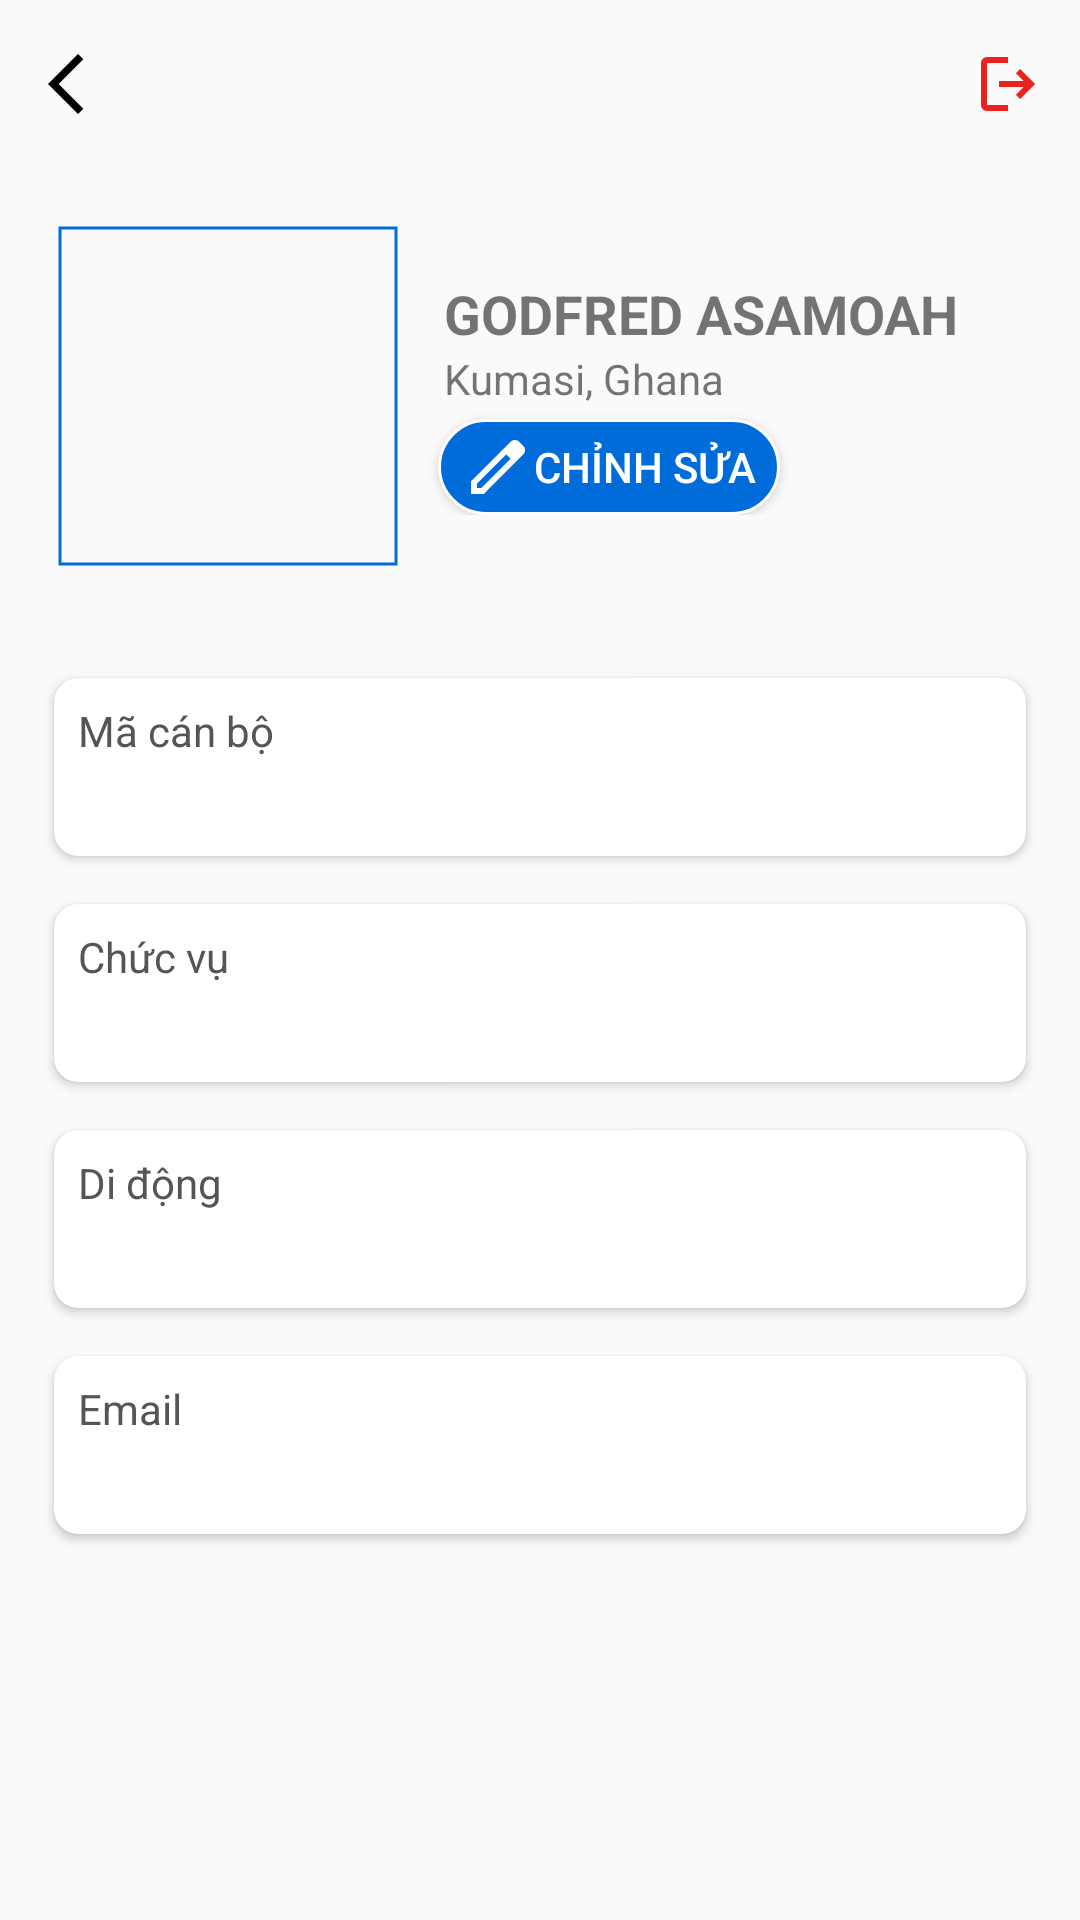

Screen size 1080 x 1920. Icon name, then its box in pixels as (x1, y1, x2, y2):
arrow back: (48, 54, 83, 114)
